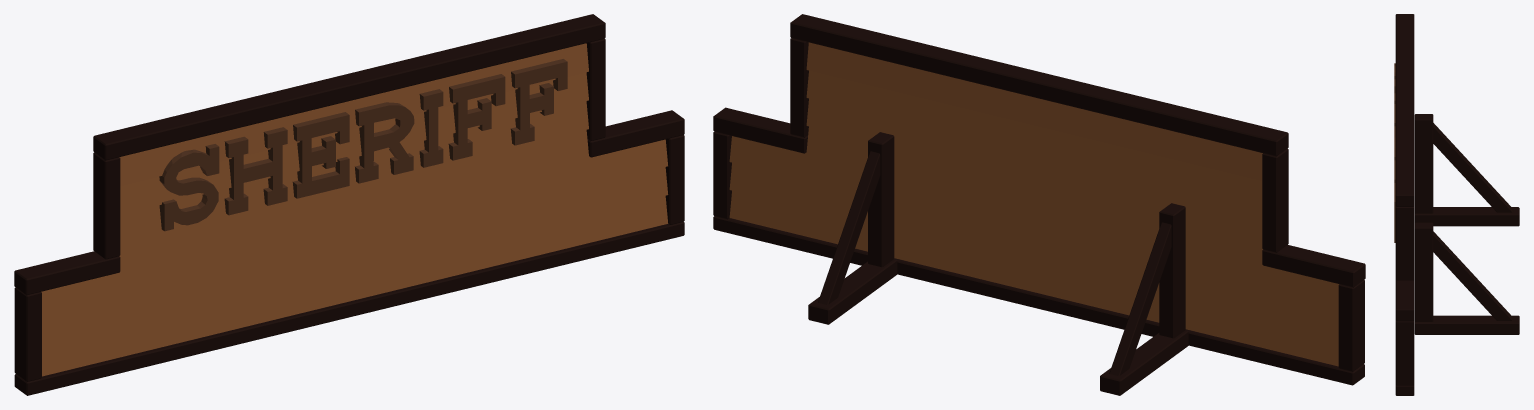
Rendered from ww_sheriff_sign_c.glb.
3 renders of one model, left to right at view 1: azimuth 30°, elevation 25°; view 2: azimuth 150°, elevation 25°; view 3: azimuth 270°, elevation 25°, orthographic. The views are drawn at different scales.
Visible parts, largest first — view 1: Sheriff_Sign_C; view 2: Sheriff_Sign_C; view 3: Sheriff_Sign_C.
Part boxes in pixels (<box>): Sheriff_Sign_C: <box>14,14,684,395</box>; Sheriff_Sign_C: <box>713,14,1365,395</box>; Sheriff_Sign_C: <box>1394,14,1519,395</box>.
Size of the model in its own units: 10.56 by 3.56 by 2.34.
